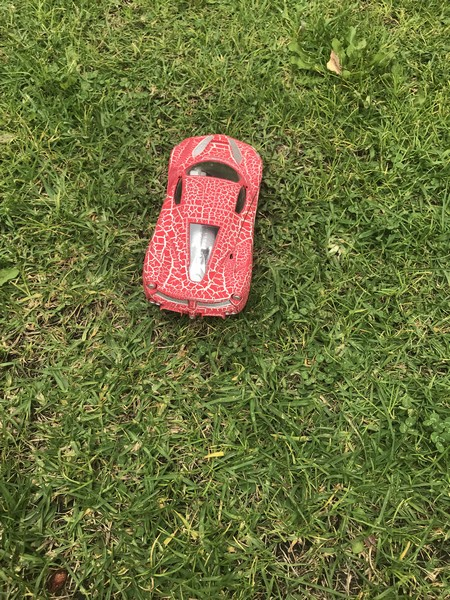RC: (140, 131, 265, 320)
